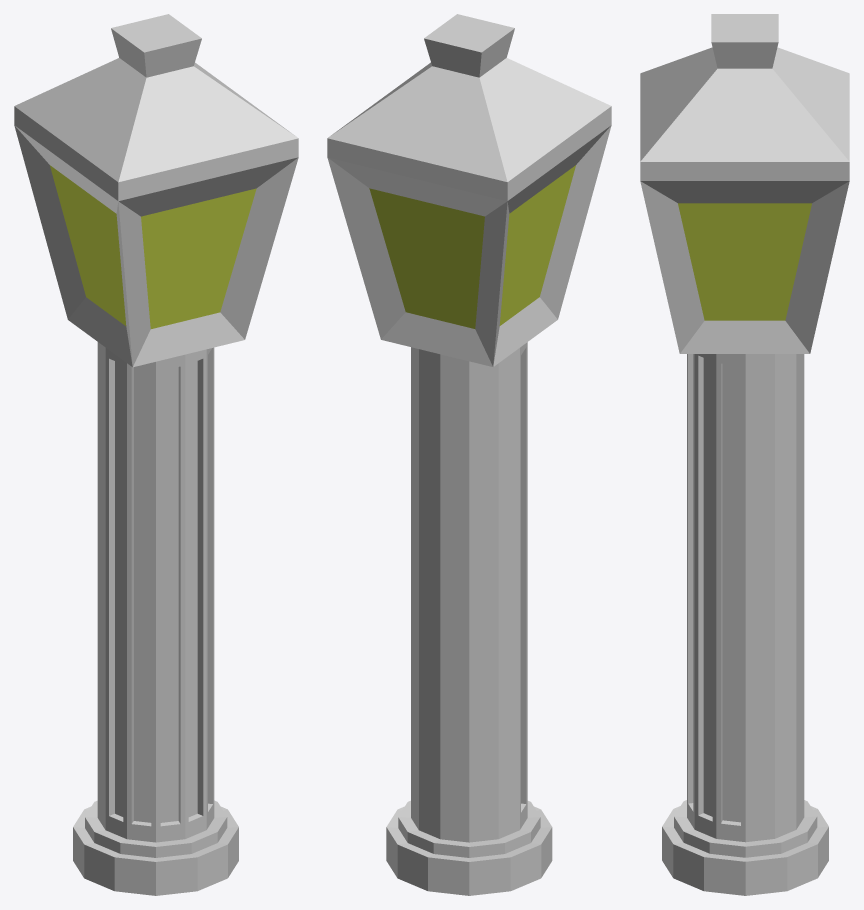
File: graveYardLamp.fbx
The picture shows the model from 3 angles, left to right: view 1: azimuth 30°, elevation 25°; view 2: azimuth 150°, elevation 25°; view 3: azimuth 270°, elevation 25°; orthographic projection.
Parts seen in each view (by area): view 1: lampPost; view 2: lampPost; view 3: lampPost.
Part boxes in pixels (bbox=[...]): lampPost: bbox=[14, 14, 298, 895]; lampPost: bbox=[327, 14, 611, 895]; lampPost: bbox=[640, 14, 849, 895].
Size of the model in its own units: 136 by 595 by 136.
